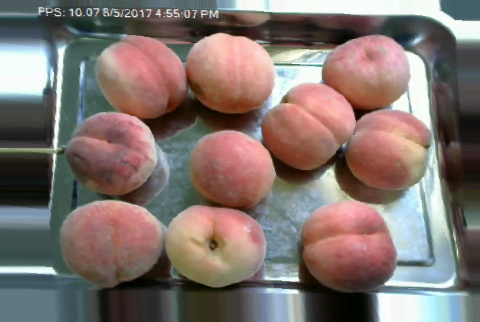Peach: (61, 198, 162, 290), (301, 199, 396, 292), (262, 80, 354, 171), (167, 205, 264, 287), (66, 110, 157, 197), (95, 35, 187, 118), (340, 108, 429, 192), (187, 33, 275, 116), (321, 33, 413, 110), (189, 130, 273, 209)
